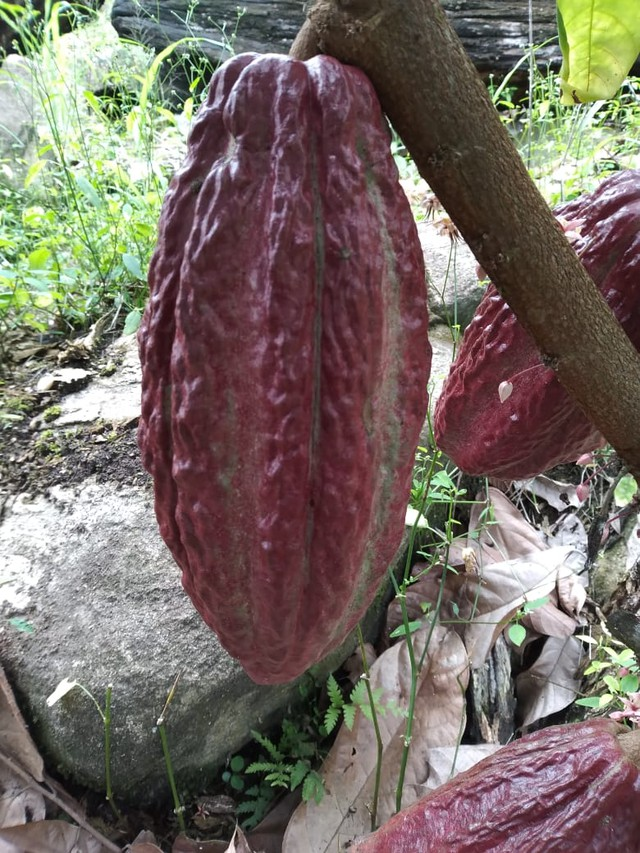Health: (132, 40, 440, 690)
